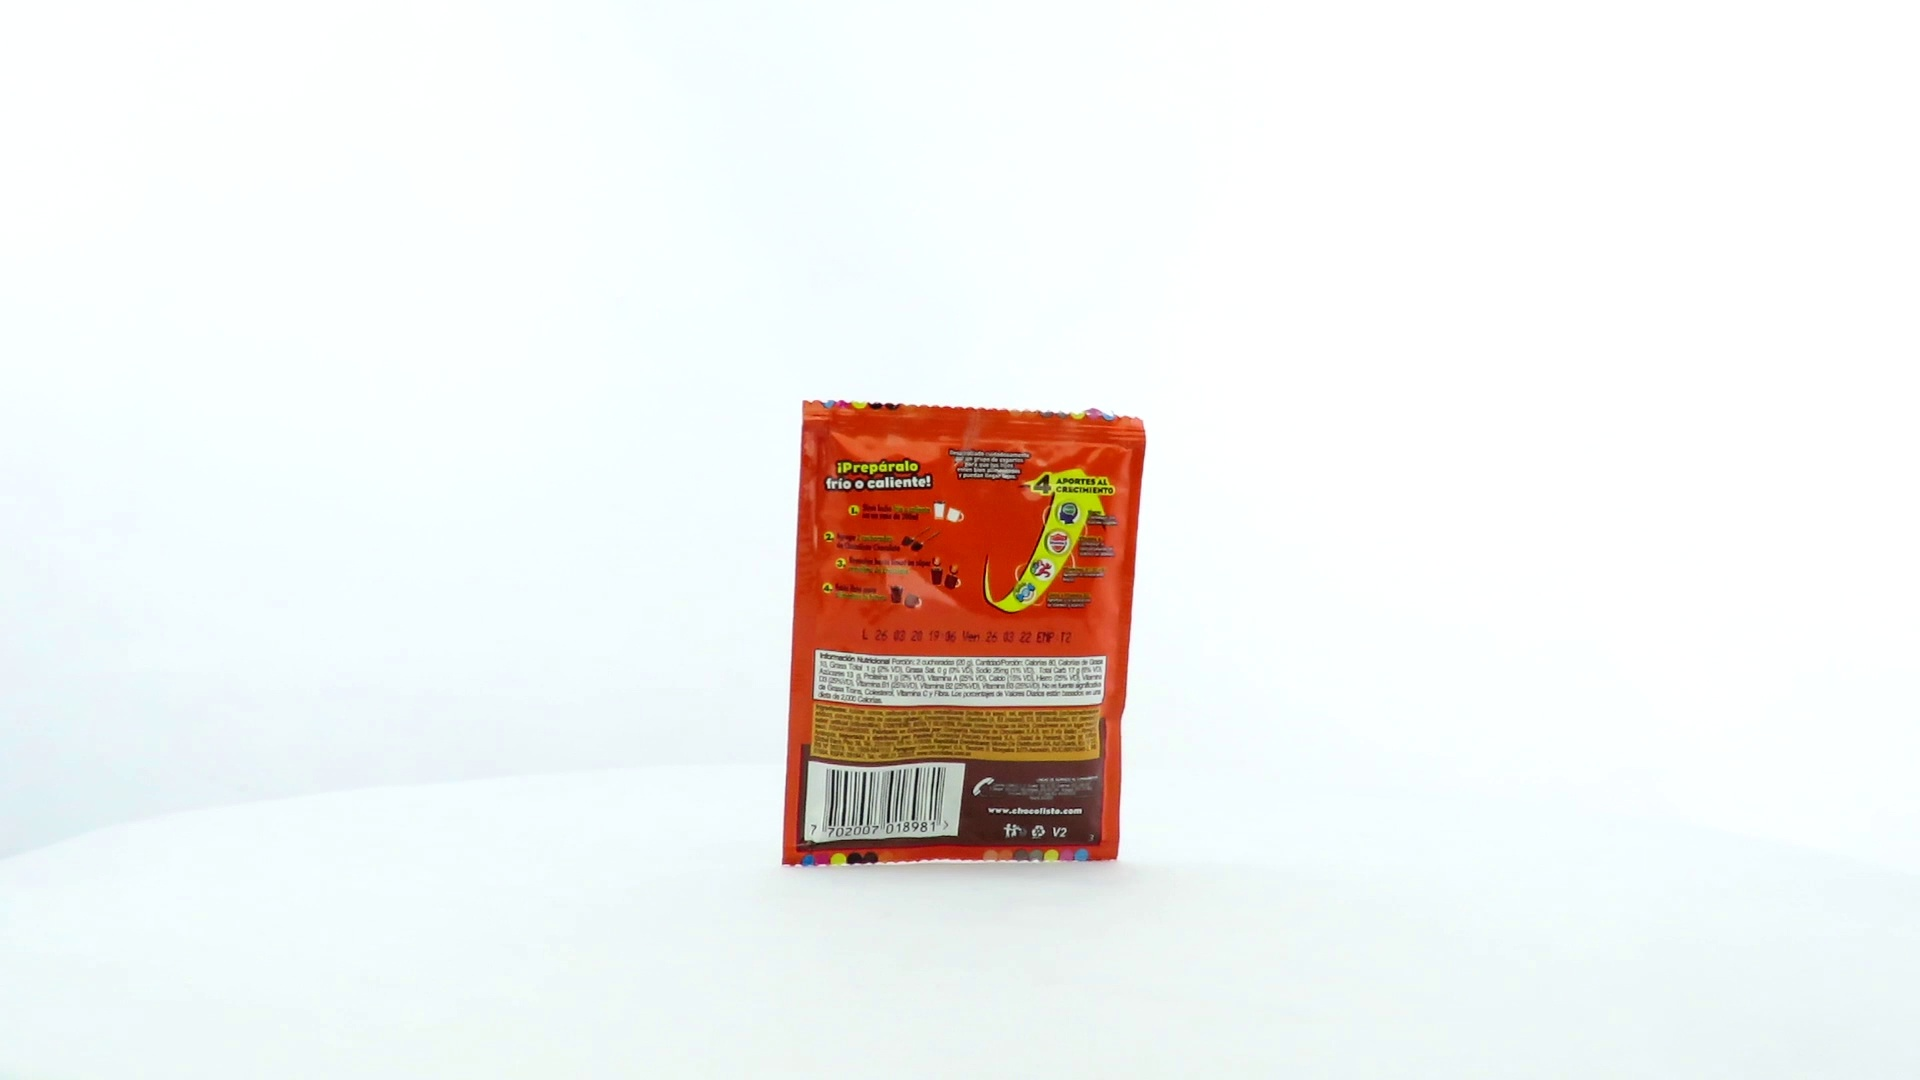COL0170103SOB02000: (777, 396, 1153, 873)
